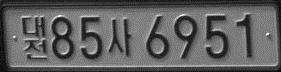1: (233, 12, 259, 57)
5: (204, 14, 229, 58), (79, 15, 103, 59)
6: (144, 15, 169, 59)
8: (50, 15, 74, 59)
9: (172, 14, 197, 59)
대전_V: (20, 15, 48, 60)
사: (106, 18, 131, 55)
